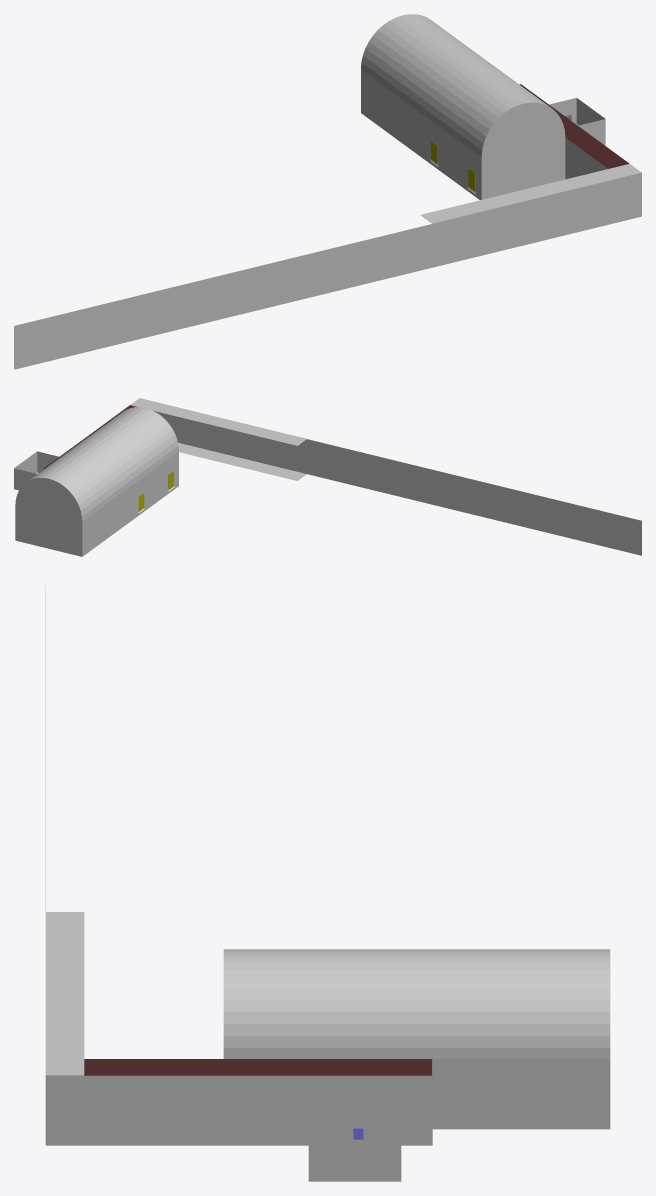
Rendered from Demo01.fbx.
The picture shows the model from 3 angles, top to bottom: view 1: azimuth 30°, elevation 25°; view 2: azimuth 150°, elevation 25°; view 3: azimuth 270°, elevation 25°; orthographic projection. The views are drawn at different scales.
Visible parts, largest first — view 1: Cube, Ceiling_DiningRoom, Wall_DiningRoom02, Wall_DiningRoom01_1, Cube_3, Cube_2, Wall_Hallway02; view 2: Cube, Ceiling_DiningRoom, Wall_DiningRoom01, Wall_DiningRoom01_1, Cube_3, Floor_Hallway02, Wall_Bedroom03, Wall_Bedroom01, Wall_Bedroom02; view 3: Ceiling_DiningRoom, Wall_Hallway01, Wall_Hallway02, Cube_3, Cube_2, Wall_Bedroom01.
Part boxes in pixels (bbox=[...]): Cube: bbox=[14, 173, 641, 369]; Ceiling_DiningRoom: bbox=[361, 14, 565, 157]; Wall_DiningRoom02: bbox=[481, 103, 565, 199]; Wall_DiningRoom01_1: bbox=[361, 69, 481, 200]; Cube_3: bbox=[421, 164, 641, 223]; Cube_2: bbox=[519, 84, 629, 168]; Wall_Hallway02: bbox=[565, 137, 608, 179]; Cube: bbox=[154, 411, 641, 555]; Ceiling_DiningRoom: bbox=[15, 407, 178, 521]; Wall_DiningRoom01: bbox=[15, 478, 82, 556]; Wall_DiningRoom01_1: bbox=[82, 451, 178, 556]; Cube_3: bbox=[130, 398, 306, 445]; Floor_Hallway02: bbox=[178, 442, 306, 480]; Wall_Bedroom03: bbox=[14, 468, 37, 490]; Wall_Bedroom01: bbox=[14, 451, 37, 473]; Wall_Bedroom02: bbox=[37, 451, 58, 472]; Ceiling_DiningRoom: bbox=[223, 949, 610, 1059]; Wall_Hallway01: bbox=[45, 1075, 432, 1145]; Wall_Hallway02: bbox=[432, 1059, 610, 1129]; Cube_3: bbox=[45, 912, 84, 1075]; Cube_2: bbox=[84, 1059, 432, 1075]; Wall_Bedroom01: bbox=[308, 1139, 401, 1181].
Bounding box in the file's own units: 16100 × 2002 × 7300.
